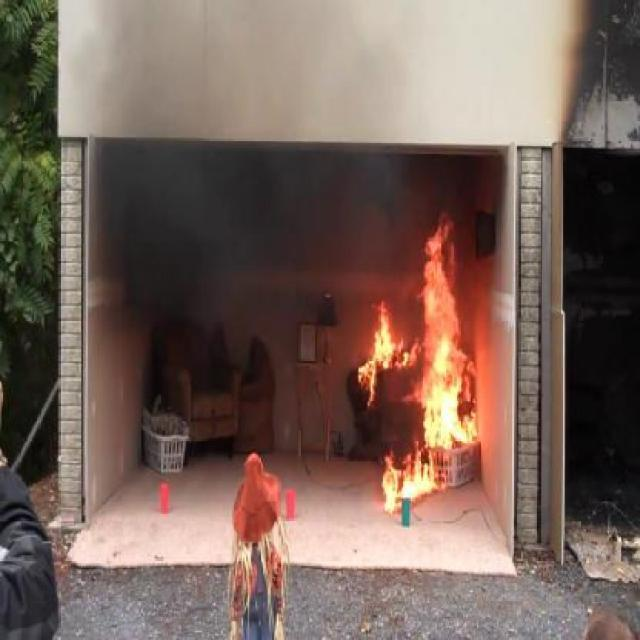fire: (362, 276, 484, 504)
smoke: (104, 80, 427, 308)
